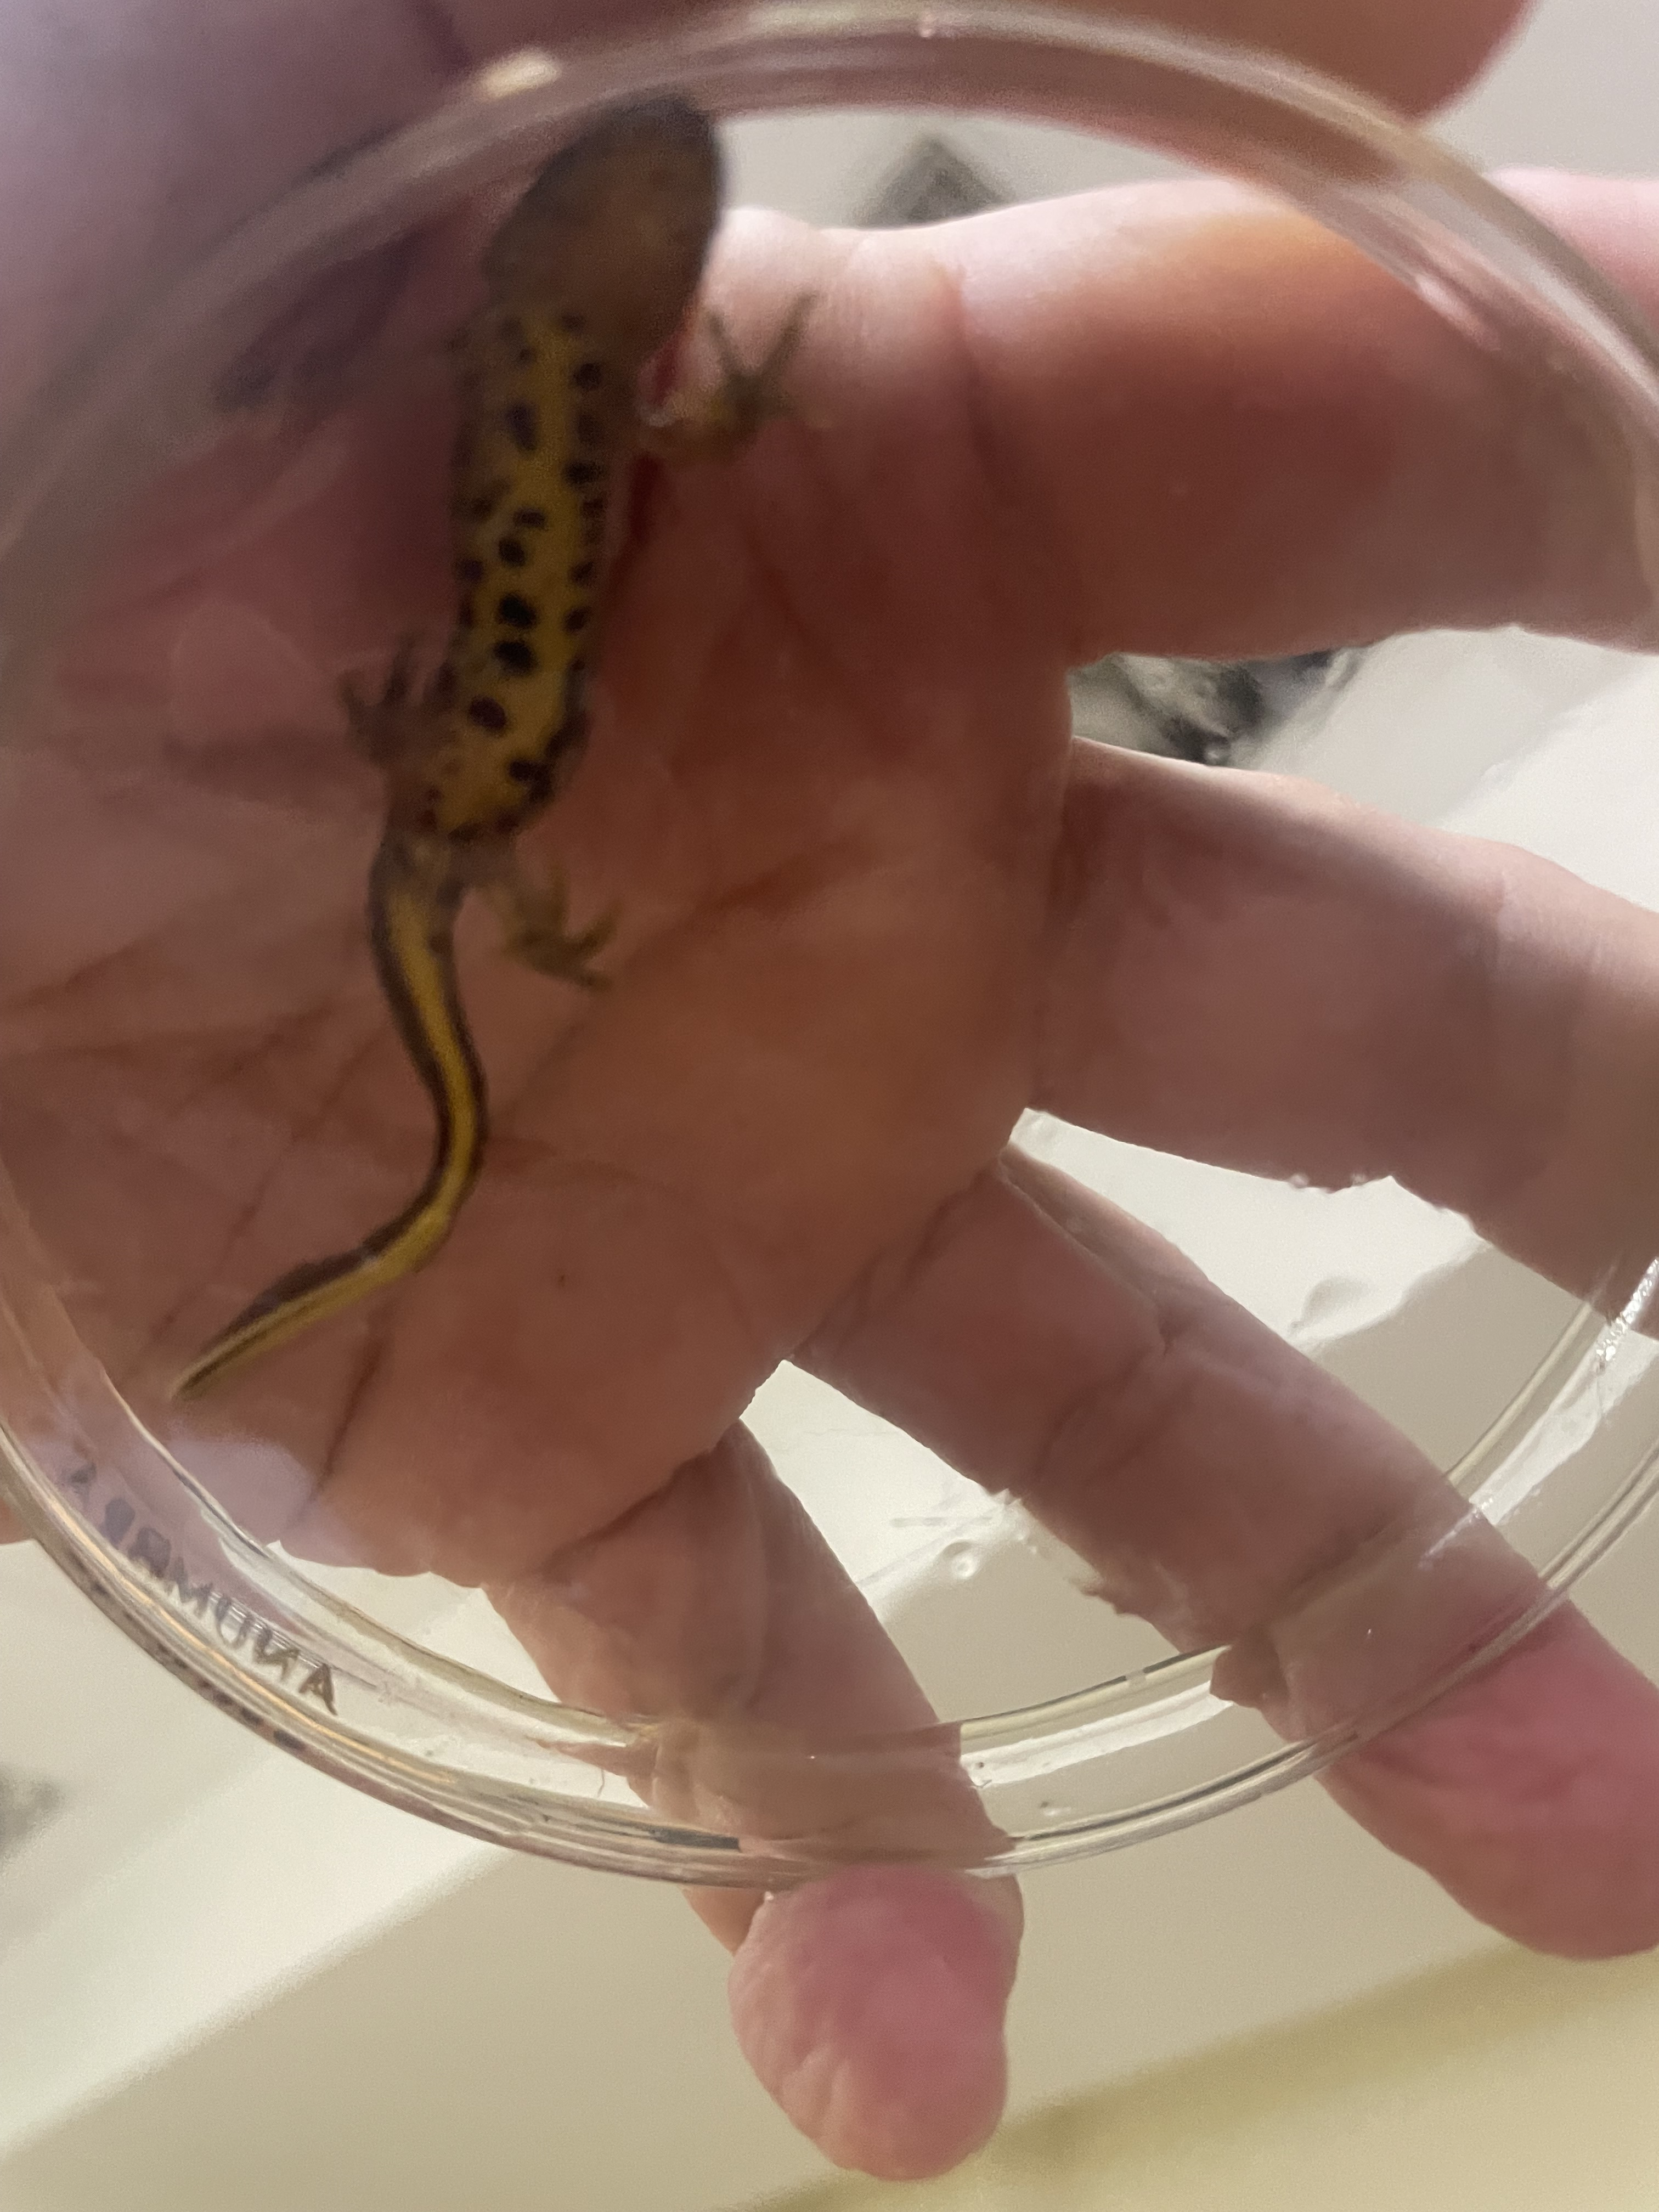Karelin_newt: (416, 364, 619, 846)
